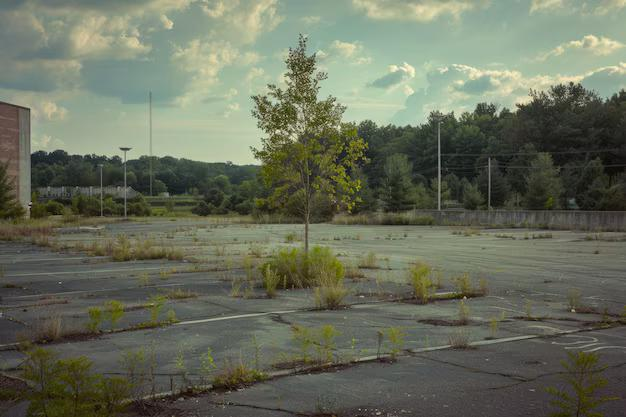overgrown grass: (25, 353, 142, 417), (547, 352, 622, 417), (264, 252, 353, 284), (172, 352, 222, 390), (88, 233, 146, 263), (141, 339, 166, 404), (301, 280, 353, 309), (339, 212, 427, 229), (451, 270, 487, 305), (154, 263, 263, 274), (0, 219, 55, 240), (319, 326, 343, 368), (259, 261, 283, 303), (161, 283, 216, 301), (146, 234, 183, 259), (227, 351, 252, 387), (409, 266, 430, 308), (300, 324, 317, 368), (59, 213, 100, 231), (78, 308, 99, 343), (218, 277, 258, 295), (30, 317, 57, 343), (148, 297, 167, 333), (248, 341, 267, 377), (554, 293, 592, 311), (446, 325, 471, 351), (365, 232, 413, 245), (104, 305, 124, 336), (596, 300, 616, 328), (389, 325, 404, 360), (324, 233, 366, 244), (579, 235, 626, 244), (376, 325, 388, 358), (523, 288, 536, 318), (455, 304, 474, 323), (489, 313, 502, 340), (453, 225, 478, 237), (521, 231, 554, 240), (191, 241, 224, 249), (138, 270, 153, 284), (492, 233, 517, 241)
